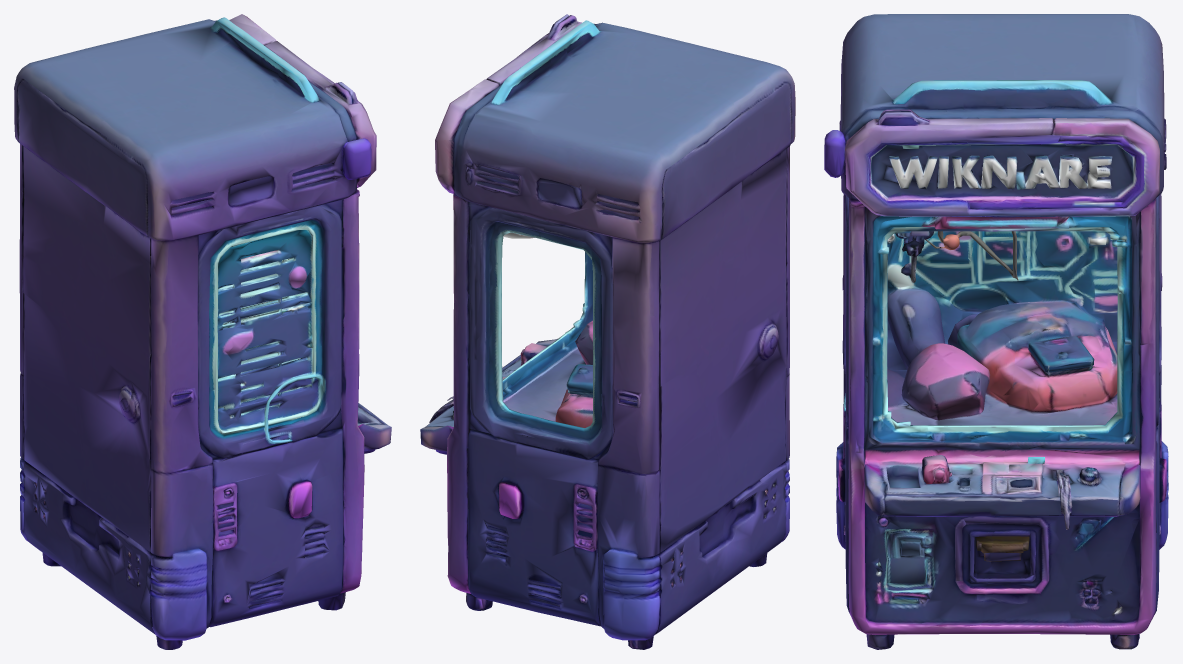
The model's file is tripo_h31_cyberpunk_arcade_cabinet_kit.glb.
3 views of the same model, side by side, from view 1: azimuth 30°, elevation 25°; view 2: azimuth 150°, elevation 25°; view 3: azimuth 270°, elevation 25° (orthographic). The views are drawn at different scales.
Parts seen in each view (by area): view 1: tripo_node_917aa395-2f8b-4ca1-a773-c963bbfb2640; view 2: tripo_node_917aa395-2f8b-4ca1-a773-c963bbfb2640; view 3: tripo_node_917aa395-2f8b-4ca1-a773-c963bbfb2640.
Part boxes in pixels (<box>): tripo_node_917aa395-2f8b-4ca1-a773-c963bbfb2640: <box>14,14,391,649</box>; tripo_node_917aa395-2f8b-4ca1-a773-c963bbfb2640: <box>420,14,795,649</box>; tripo_node_917aa395-2f8b-4ca1-a773-c963bbfb2640: <box>824,14,1168,649</box>.
Size of the model in its own units: 0.5346 by 0.9781 by 0.5467.
Materials: 1 (1 with a texture image).
